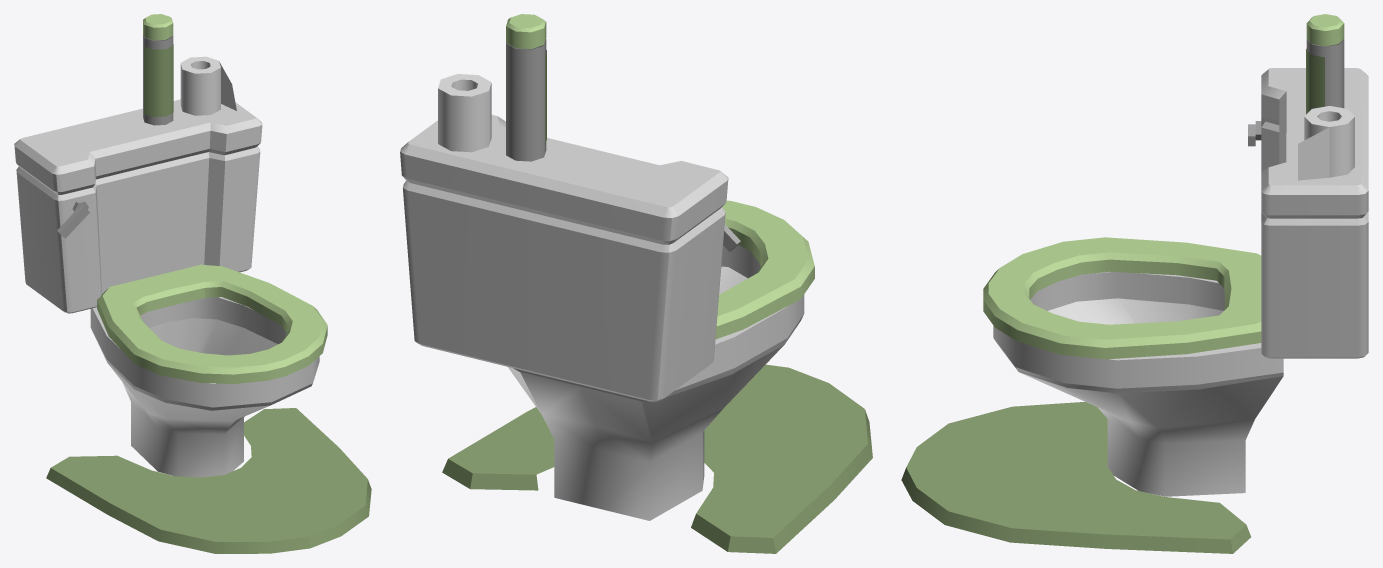
The model's file is toilet_01.fbx.
The picture shows the model from 3 angles, left to right: view 1: azimuth 30°, elevation 25°; view 2: azimuth 150°, elevation 25°; view 3: azimuth 270°, elevation 25°; orthographic projection. The views are drawn at different scales.
Visible parts, largest first — view 1: pCube616, pCylinder160, pCube615, pCylinder159, pCylinder161; view 2: pCube616, pCylinder160, pCube615, pCylinder161, pCylinder159; view 3: pCube616, pCylinder160, pCube615, pCylinder159, pCylinder161.
Part boxes in pixels (box(x1,y1,x2,y2)): pCube616: box(14, 99, 319, 477); pCylinder160: box(46, 44, 371, 553); pCube615: box(97, 14, 327, 383); pCylinder159: box(180, 56, 236, 115); pCylinder161: box(57, 33, 173, 238); pCube616: box(400, 115, 804, 520); pCylinder160: box(442, 50, 872, 553); pCube615: box(506, 14, 814, 339); pCylinder161: box(506, 39, 740, 251); pCylinder159: box(438, 74, 491, 152); pCube616: box(993, 68, 1368, 496); pCylinder160: box(901, 49, 1324, 553); pCube615: box(983, 14, 1344, 359); pCylinder159: box(1298, 106, 1354, 180); pCylinder161: box(1248, 39, 1344, 146).
Bounding box in the file's own units: 6.33 × 9.44 × 8.44.
